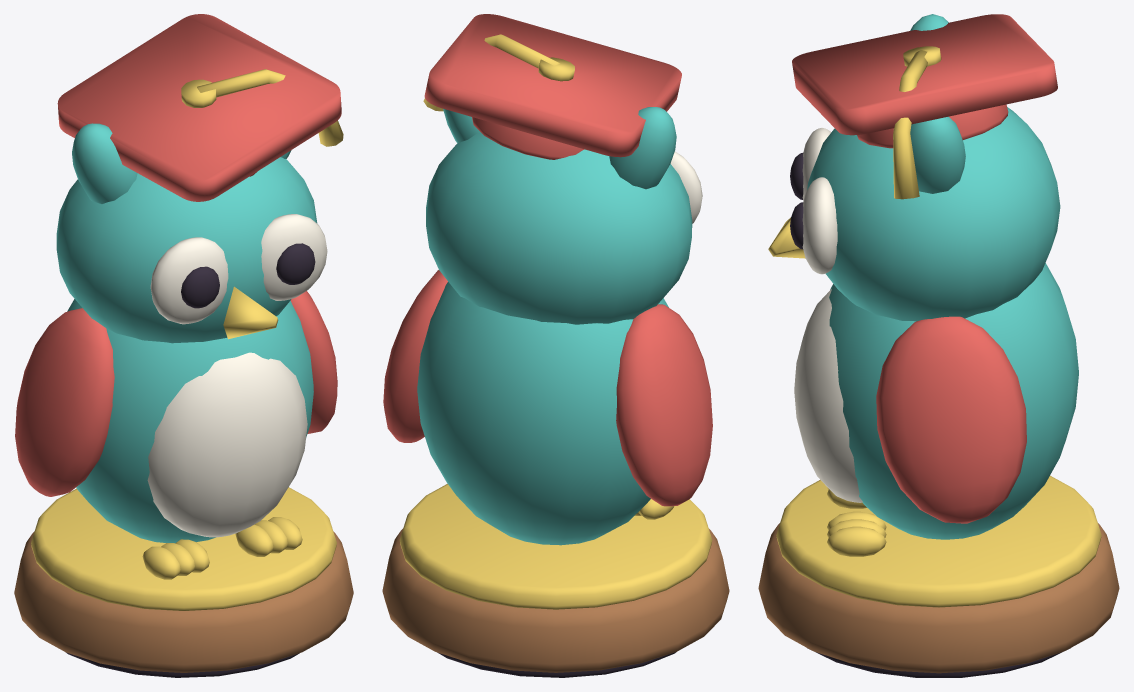
The model's file is figurine.glb.
3 renders of one model, left to right at view 1: azimuth 30°, elevation 25°; view 2: azimuth 150°, elevation 25°; view 3: azimuth 270°, elevation 25°, orthographic. The views are drawn at different scales.
Parts seen in each view (by area): view 1: ShopFigurine_CoralWingsAndCap, ShopFigurine_Body, ShopFigurine_CreamBellyAndEyes, ShopFigurine_ButterAccents, ShopFigurine_WoodPlinth, ShopFigurine_PadAndPupils; view 2: ShopFigurine_Body, ShopFigurine_CoralWingsAndCap, ShopFigurine_ButterAccents, ShopFigurine_WoodPlinth, ShopFigurine_PadAndPupils, ShopFigurine_CreamBellyAndEyes; view 3: ShopFigurine_Body, ShopFigurine_CoralWingsAndCap, ShopFigurine_ButterAccents, ShopFigurine_WoodPlinth, ShopFigurine_CreamBellyAndEyes, ShopFigurine_PadAndPupils.
Part boxes in pixels (x1,y1,x2,y2): ShopFigurine_CoralWingsAndCap: (15,14,341,496); ShopFigurine_Body: (56,123,317,543); ShopFigurine_CreamBellyAndEyes: (147,214,327,537); ShopFigurine_ButterAccents: (31,69,343,610); ShopFigurine_WoodPlinth: (14,531,353,672); ShopFigurine_PadAndPupils: (66,243,315,677); ShopFigurine_Body: (417,107,692,545); ShopFigurine_CoralWingsAndCap: (383,14,712,506); ShopFigurine_ButterAccents: (399,34,712,609); ShopFigurine_WoodPlinth: (382,529,729,672); ShopFigurine_PadAndPupils: (437,652,676,677); ShopFigurine_CreamBellyAndEyes: (670,151,702,223); ShopFigurine_Body: (807,14,1078,539); ShopFigurine_CoralWingsAndCap: (792,14,1057,523); ShopFigurine_ButterAccents: (768,46,1101,607); ShopFigurine_WoodPlinth: (758,523,1119,673); ShopFigurine_CreamBellyAndEyes: (794,128,862,502); ShopFigurine_PadAndPupils: (790,153,1070,677).
Bounding box in the file's own units: 0.1144 × 0.2033 × 0.1142.
